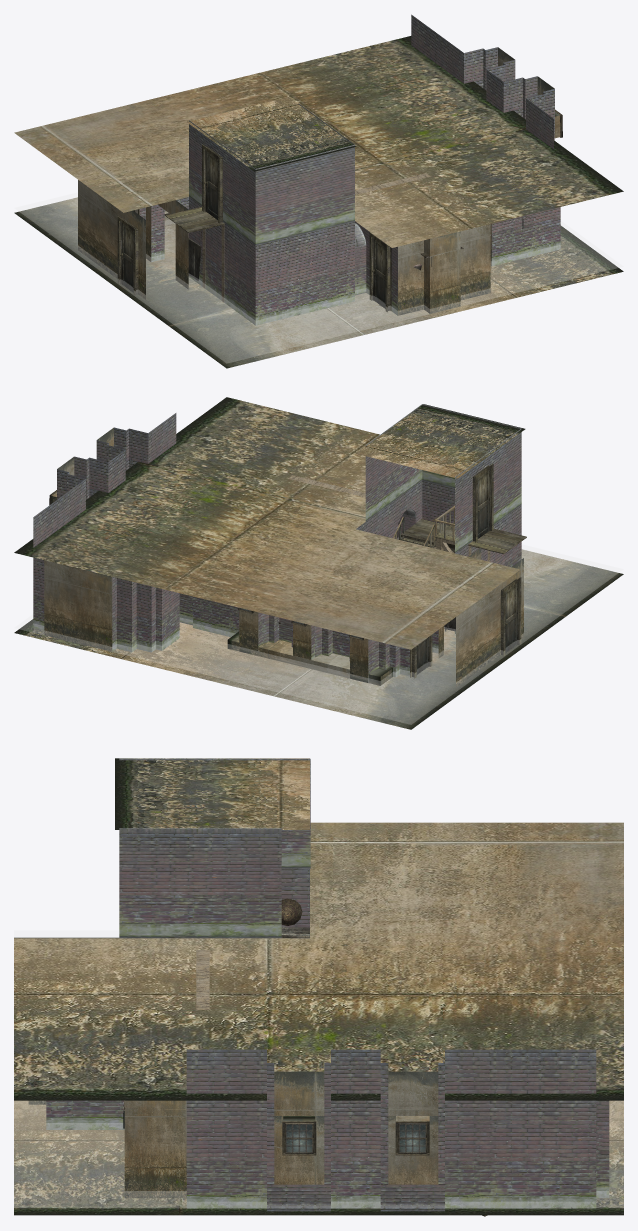
The model's file is land_of_dreamsch_basement_a_-_concept.glb.
3 renders of one model, top to bottom at view 1: azimuth 30°, elevation 25°; view 2: azimuth 150°, elevation 25°; view 3: azimuth 270°, elevation 25°, orthographic. The views are drawn at different scales.
Visible parts, largest first — view 1: polySurface1; view 2: polySurface1; view 3: polySurface1.
Boxes of the visible parts, x1,y1,x2,y2 form: polySurface1: (14, 14, 623, 368); polySurface1: (14, 397, 623, 729); polySurface1: (14, 758, 623, 1216).
Size of the model in its own units: 1459 by 518 by 1251.
Materials: 14 (13 with a texture image).
